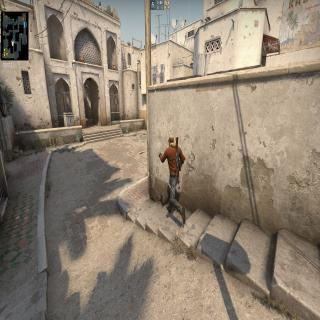T-Head: (168, 135, 174, 147)
